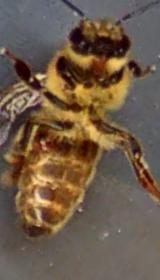varroa_mite: (29, 132, 56, 154)
